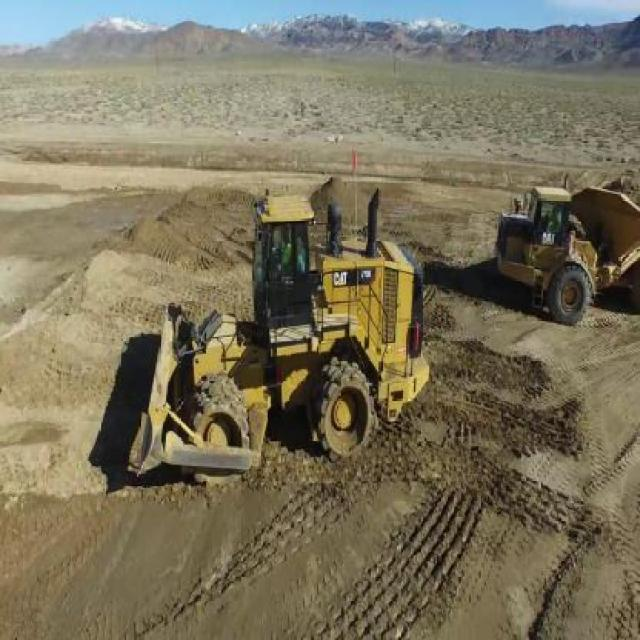dump_truck: (494, 172, 638, 322)
